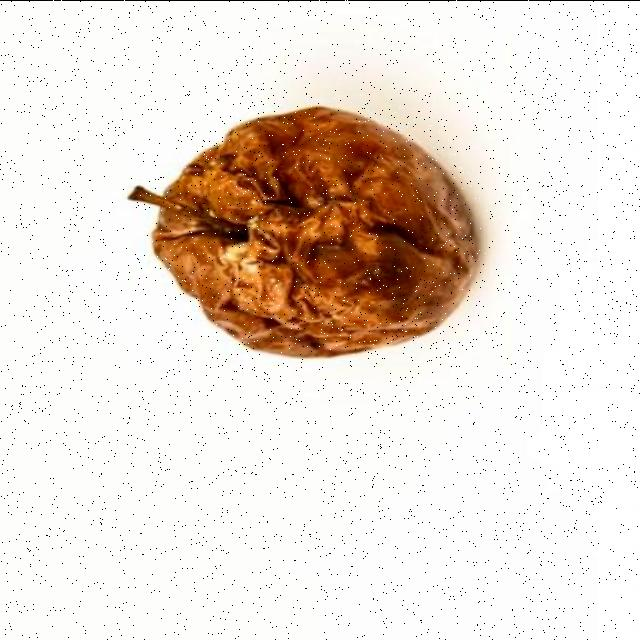ROT: (147, 94, 471, 372)
